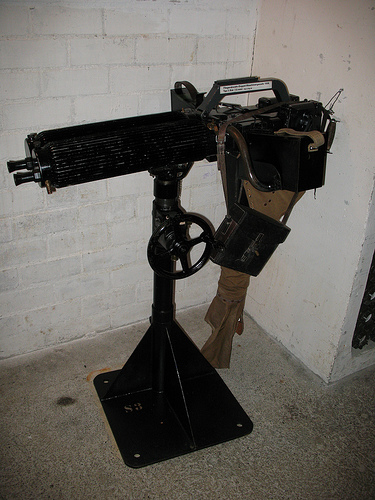rifle: (36, 64, 304, 437)
